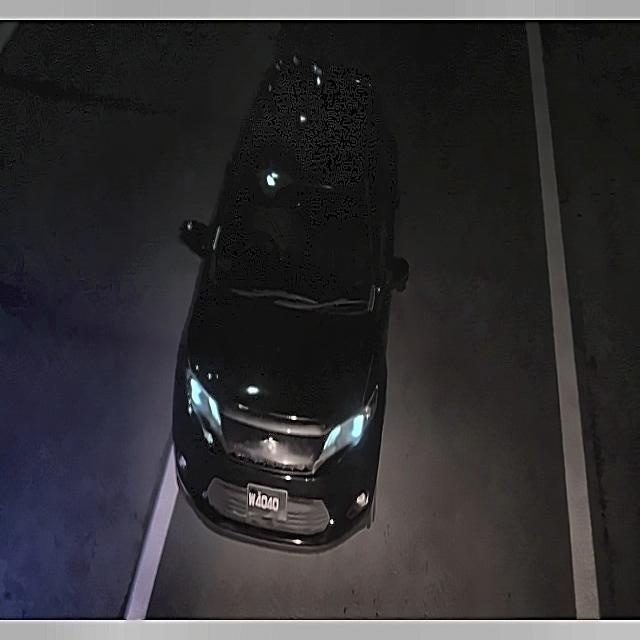car: (240, 478, 294, 525)
